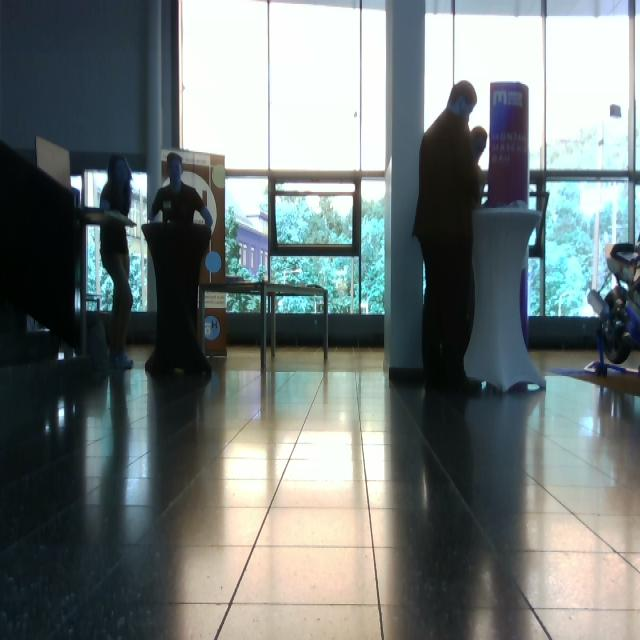light bulb: (205, 252, 222, 274), (212, 164, 226, 189), (610, 104, 622, 118)
person: (412, 80, 488, 394), (145, 152, 214, 377)
pillar: (384, 1, 426, 380)
table: (261, 280, 332, 373)
tiled floor: (2, 343, 639, 639)
window: (179, 1, 390, 318), (84, 169, 149, 313)
